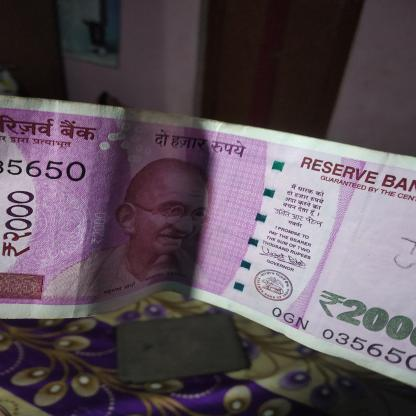New2000Front: (0, 96, 415, 366)
